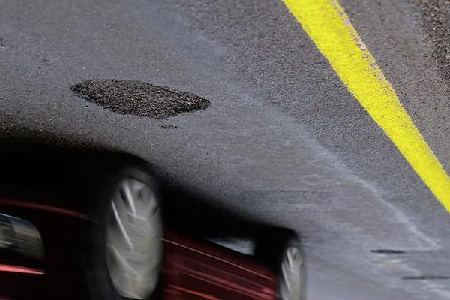pothole: (69, 78, 213, 121), (370, 248, 408, 258), (159, 122, 180, 131)
